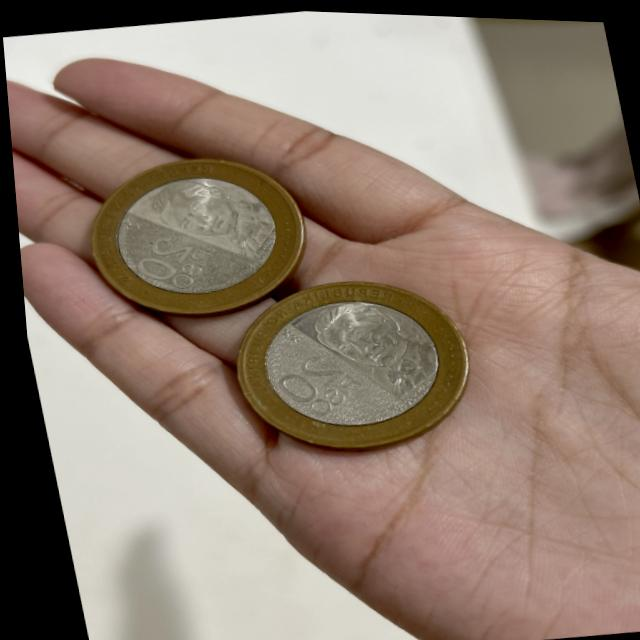20_New_Front: (258, 343, 370, 439), (112, 225, 221, 305)
